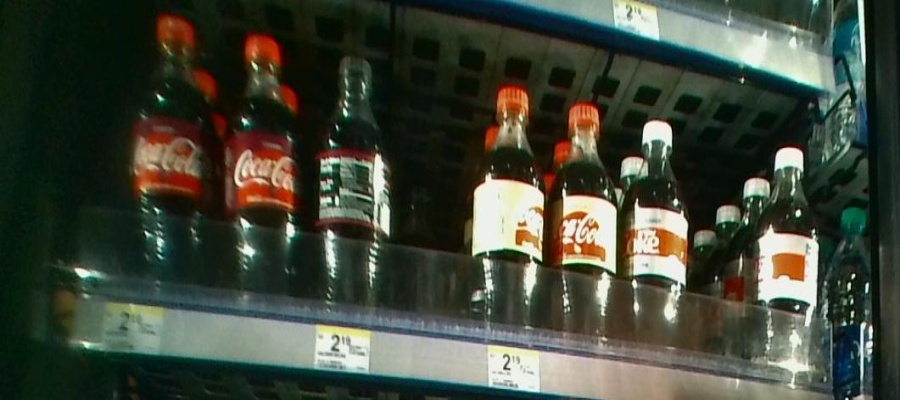bottle: (313, 36, 401, 318), (128, 7, 216, 286), (218, 17, 303, 302), (472, 77, 549, 336), (553, 84, 623, 339), (624, 103, 692, 360), (758, 138, 822, 382)
